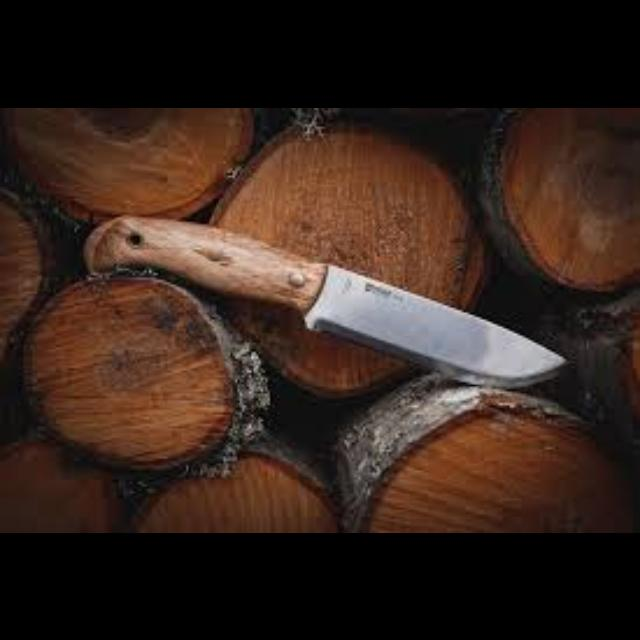Knife: (82, 212, 570, 388)
